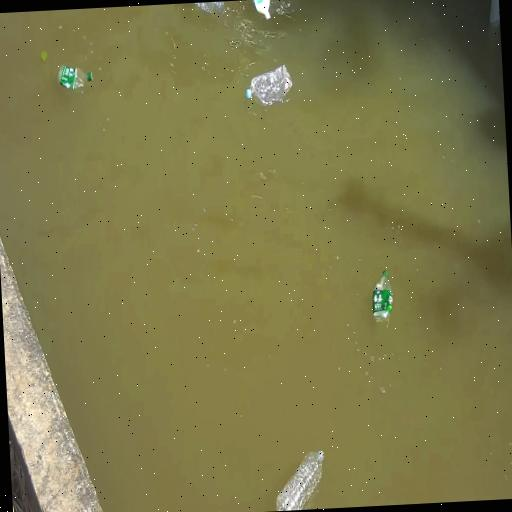plastic: (276, 452, 323, 510), (245, 65, 291, 105), (372, 270, 392, 327), (57, 66, 92, 89), (195, 1, 223, 13)
